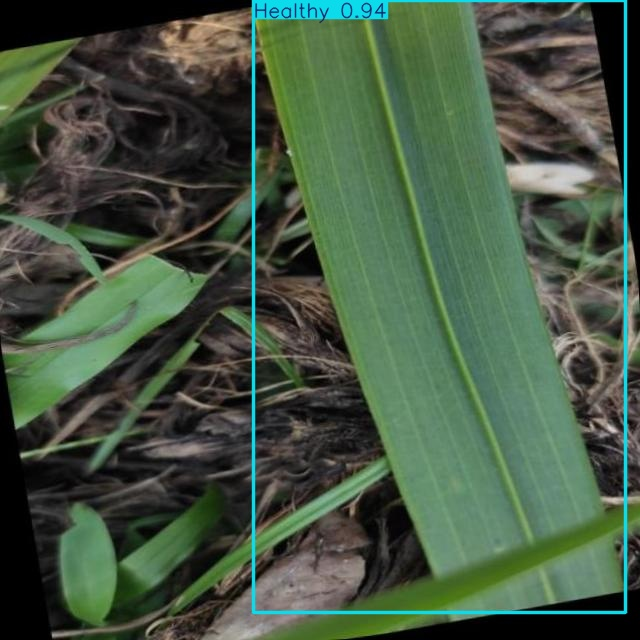Healthy: (254, 0, 626, 613)
